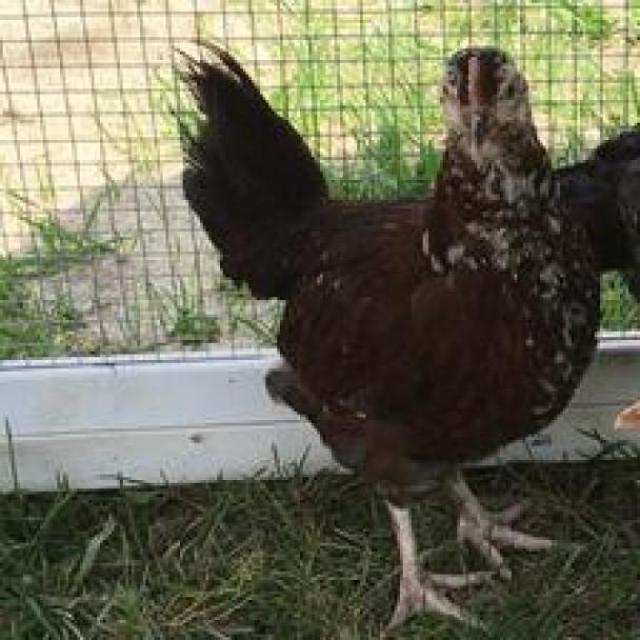Chicken: (186, 48, 562, 640)
